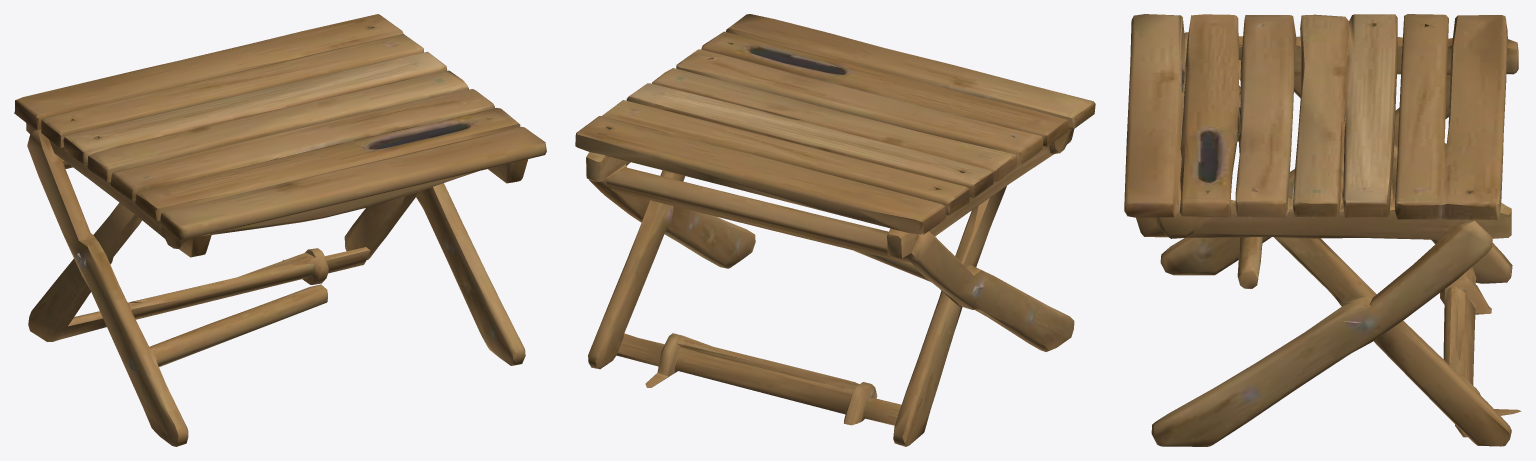
Rendered from camptable.glb.
The picture shows the model from 3 angles, left to right: view 1: azimuth 30°, elevation 25°; view 2: azimuth 150°, elevation 25°; view 3: azimuth 270°, elevation 25°; orthographic projection. The views are drawn at different scales.
Visible parts, largest first — view 1: camptable; view 2: camptable; view 3: camptable.
Part boxes in pixels (left/top/right/bottom): camptable: left=14, top=14, right=546, bottom=446; camptable: left=575, top=14, right=1095, bottom=446; camptable: left=1124, top=14, right=1521, bottom=446.
Bounding box in the file's own units: 0.5829 × 0.3599 × 0.506.
Materials: 1 (1 with a texture image).
